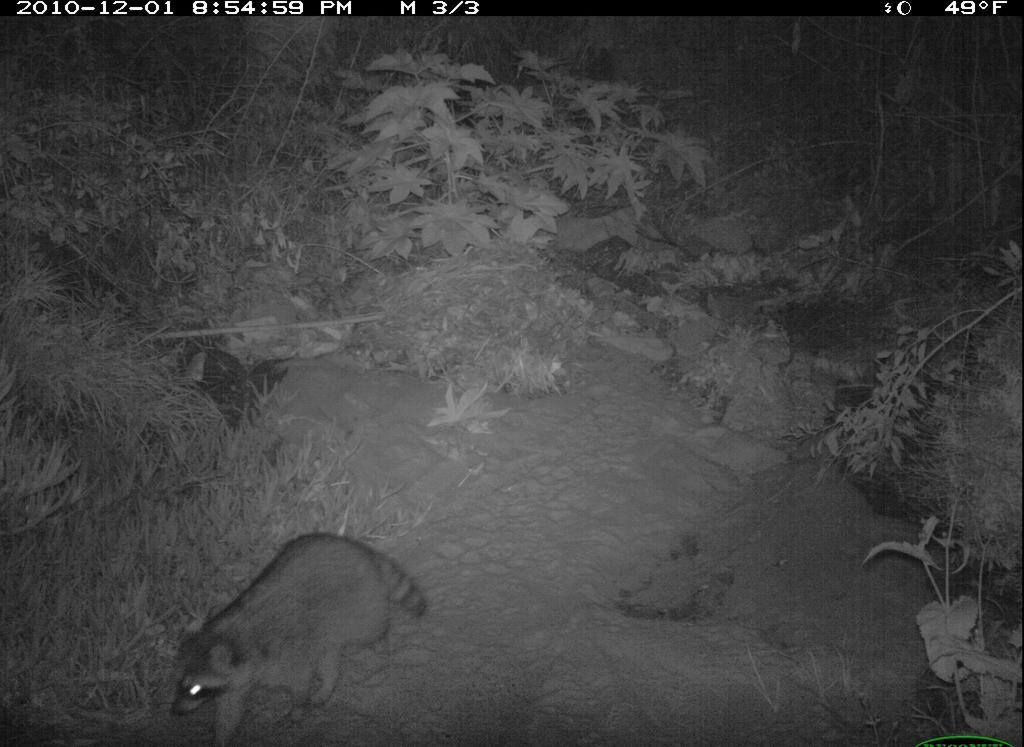raccoon: (169, 528, 434, 747)
